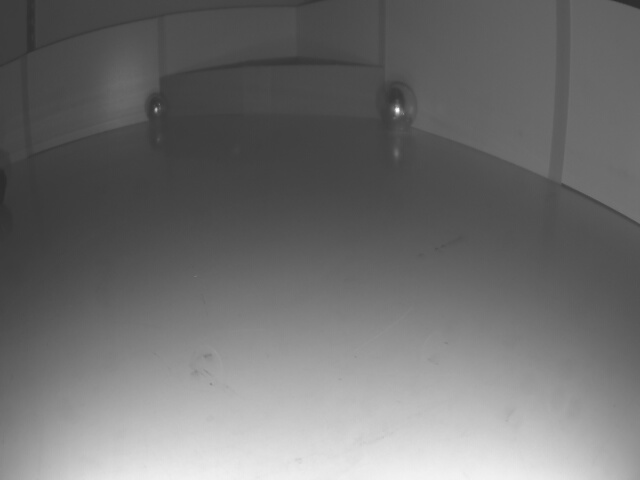Live: (374, 81, 416, 128), (139, 93, 170, 121)
Point: (160, 69, 382, 119)
